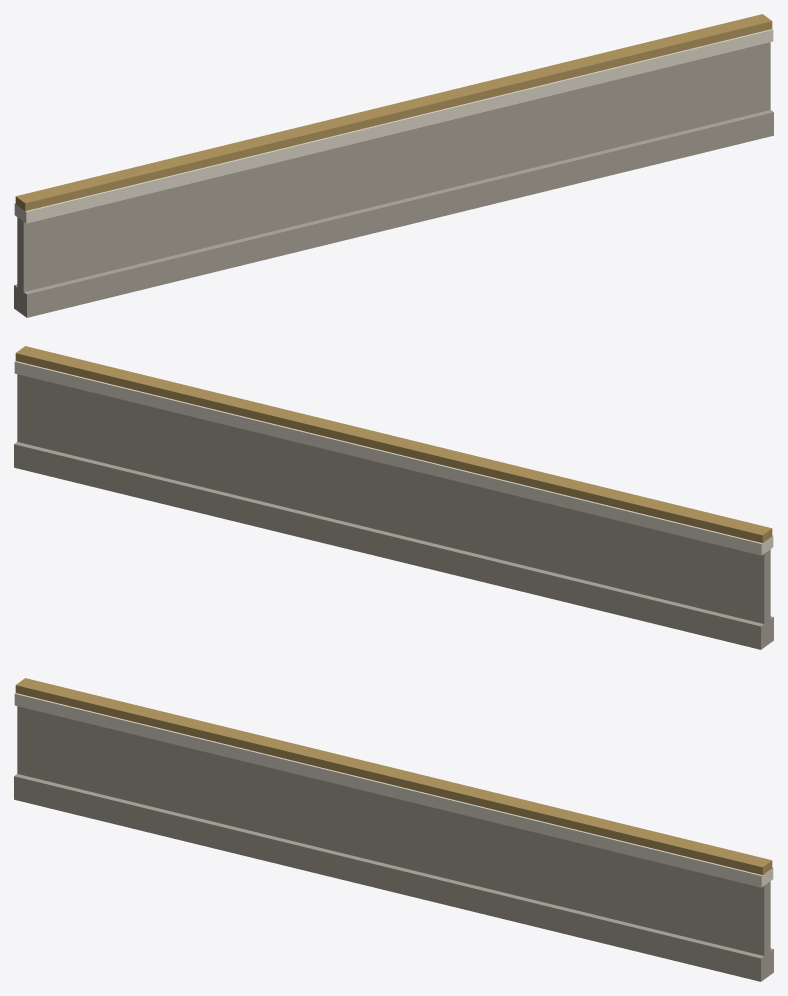
The model's file is VIC_A04_DADO_8_Roblox.fbx.
3 views of the same model, one above another, from view 1: azimuth 30°, elevation 25°; view 2: azimuth 150°, elevation 25°; view 3: azimuth 330°, elevation 25° (orthographic).
Visible parts, largest first — view 1: VIC_A04_DADO_8__Stone, VIC_A04_DADO_8__Brass, VIC_A04_DADO_8__Ivory; view 2: VIC_A04_DADO_8__Stone, VIC_A04_DADO_8__Brass, VIC_A04_DADO_8__Ivory; view 3: VIC_A04_DADO_8__Stone, VIC_A04_DADO_8__Brass, VIC_A04_DADO_8__Ivory.
Boxes of the visible parts, bbox=[...] form: VIC_A04_DADO_8__Stone: bbox=[14, 42, 773, 317]; VIC_A04_DADO_8__Brass: bbox=[15, 14, 772, 210]; VIC_A04_DADO_8__Ivory: bbox=[14, 29, 773, 223]; VIC_A04_DADO_8__Stone: bbox=[14, 374, 773, 649]; VIC_A04_DADO_8__Brass: bbox=[15, 346, 772, 542]; VIC_A04_DADO_8__Ivory: bbox=[14, 361, 773, 555]; VIC_A04_DADO_8__Stone: bbox=[14, 706, 773, 981]; VIC_A04_DADO_8__Brass: bbox=[15, 678, 772, 874]; VIC_A04_DADO_8__Ivory: bbox=[14, 693, 773, 887].
Bounding box in the file's own units: 8 × 1.16 × 0.24.
